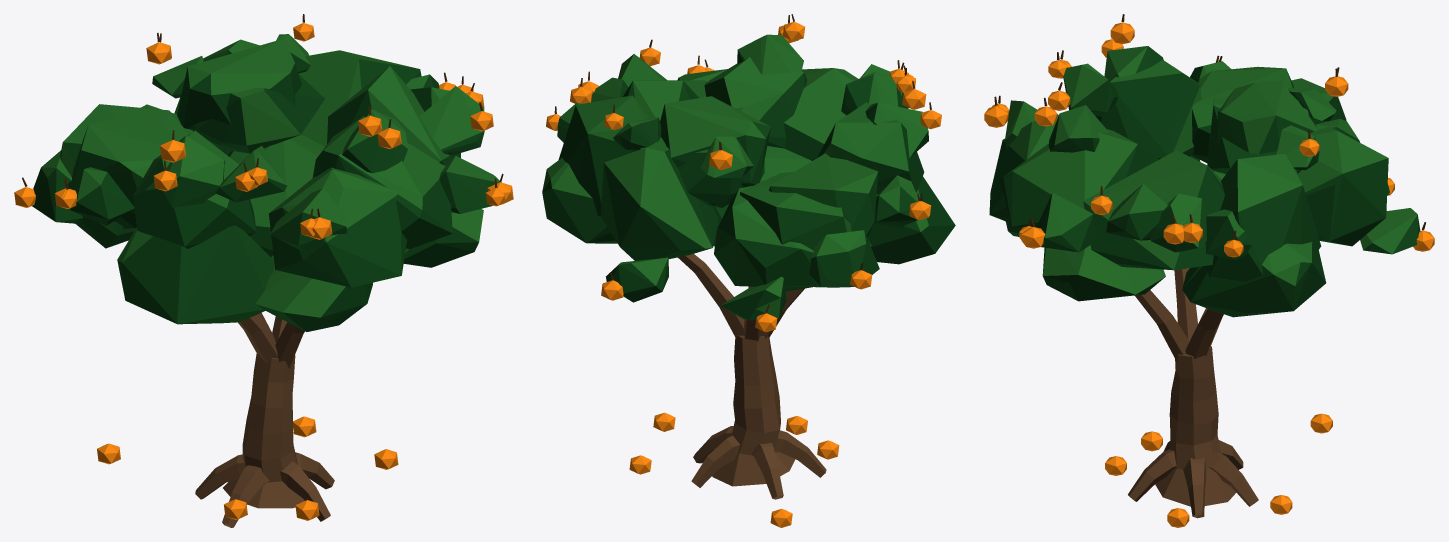
Rendered from tree_orange.glb.
The picture shows the model from 3 angles, left to right: view 1: azimuth 30°, elevation 25°; view 2: azimuth 150°, elevation 25°; view 3: azimuth 270°, elevation 25°; orthographic projection. The views are drawn at different scales.
Visible parts, largest first — view 1: TreeOrange; view 2: TreeOrange; view 3: TreeOrange.
Boxes of the visible parts, <box> form: TreeOrange: <box>14,14,513,527</box>; TreeOrange: <box>542,14,955,527</box>; TreeOrange: <box>984,14,1434,527</box>.
Bounding box in the file's own units: 4.16 × 4.32 × 4.16.
